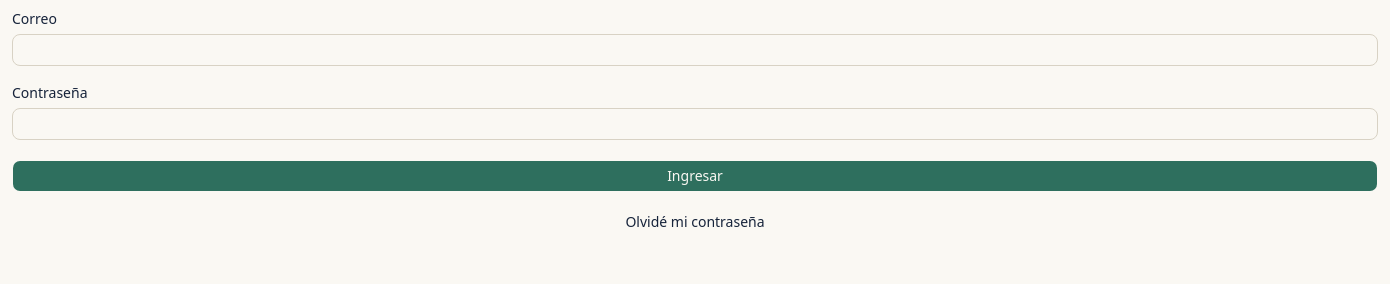
LoginForm › muestra el mensaje de error del backend cuando el login falla
Type "admin@estrategos.local" into the field labelled "Correo" at (695, 50), box [12,34,1378,66]
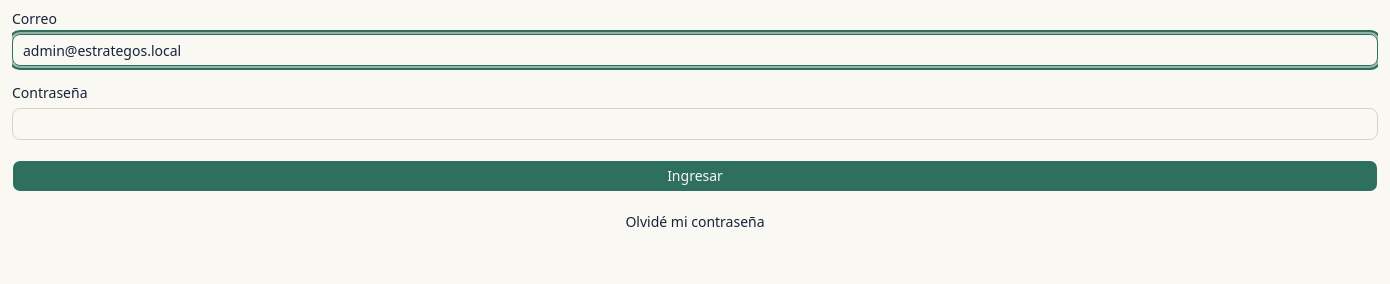
Type "incorrecta" into the password field labelled "Contraseña" at (695, 124), box [12,108,1378,140]
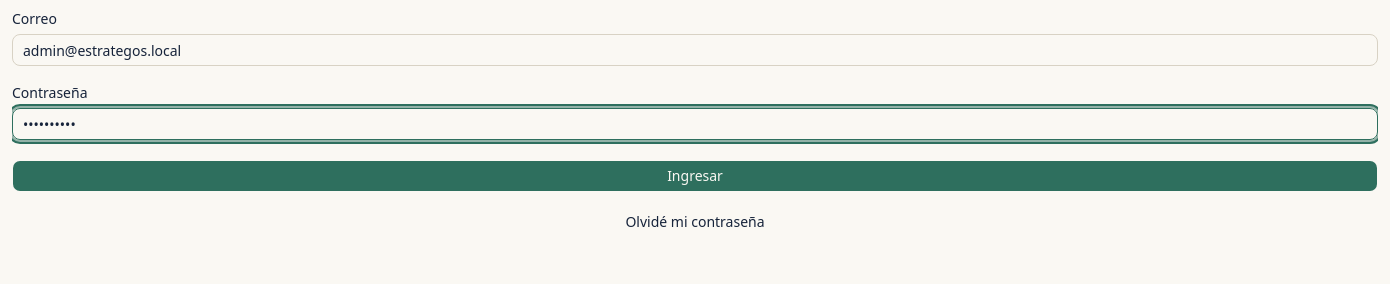
Click the button "Ingresar" at (695, 176), box [12,160,1378,192]
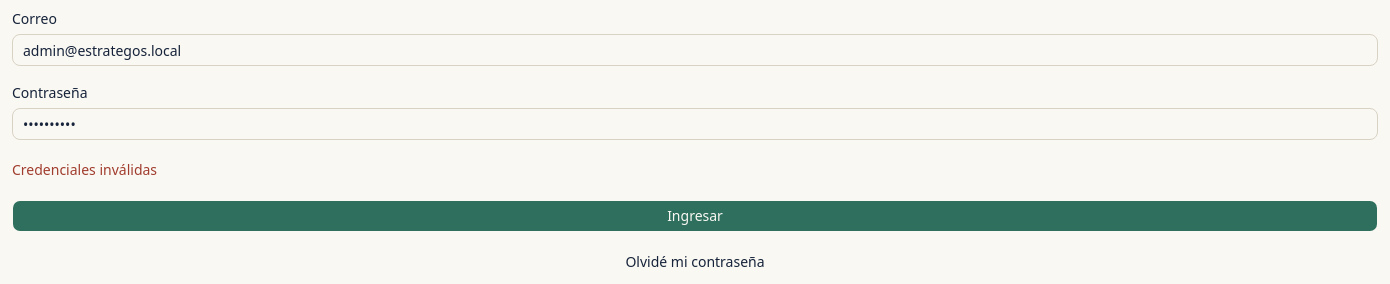
Now the message reads "Credenciales inválidas", box [12,160,157,179]
